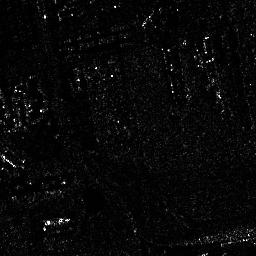ship: (45, 217, 71, 226)
